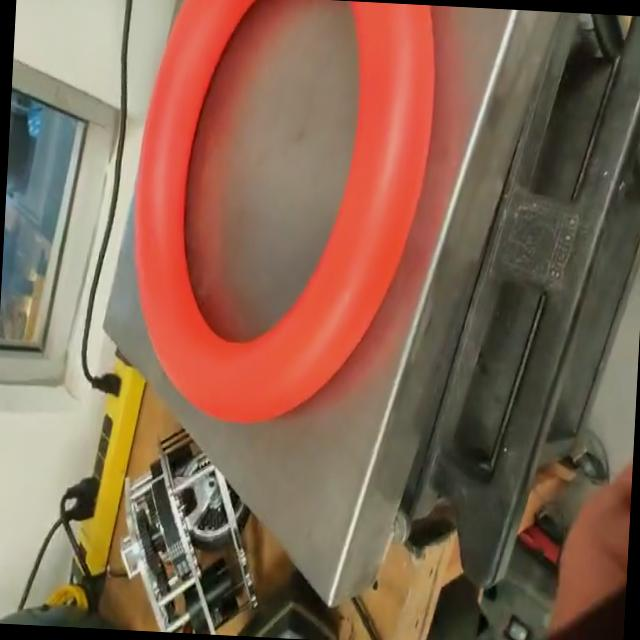note: (119, 0, 443, 437)
